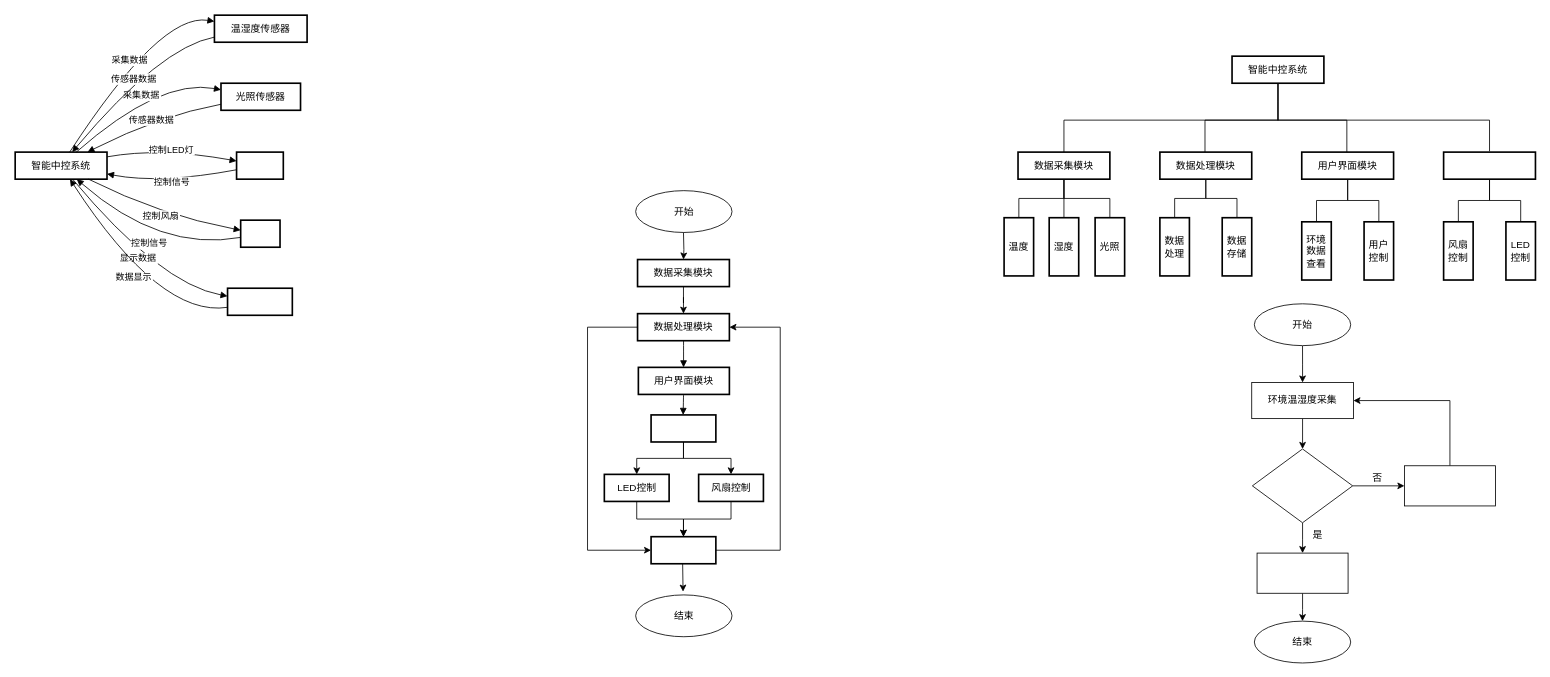
This 1550x677 diagram has some shape labels left out. The box of each missing label's shape, as (x1, y1, x2, y2) in pixels:
LED灯: (235, 151, 284, 180)
关闭LED/风扇: (1404, 465, 1495, 506)
判断当前测量值 是否大于设定值: (1252, 448, 1353, 523)
打开LED/风扇: (1256, 552, 1348, 593)
控制指令: (650, 535, 716, 564)
用户交互: (650, 414, 716, 442)
用户界面: (226, 287, 293, 316)
自控模块: (1442, 151, 1536, 180)
风扇: (239, 219, 280, 248)
